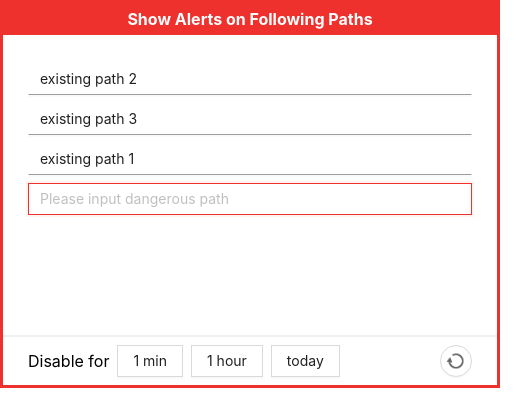
Modify Path List › should sort existing path in alphabetical order when click sort button
The image size is (517, 405).
Step 1. Type "test" into the field with placeholder "Please input dangerous path" → (250, 199), box [28,183,472,215]
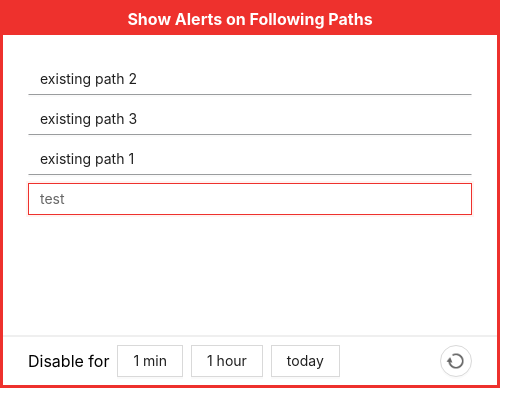
Step 2. Click the button "existing path 2" → (88, 78), box [28,63,472,95]
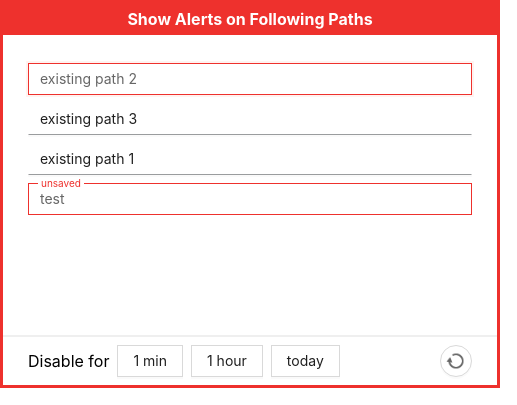
Step 3. Replace the text in the 1st field with "existing path 4" → (250, 79), box [28,63,472,95]
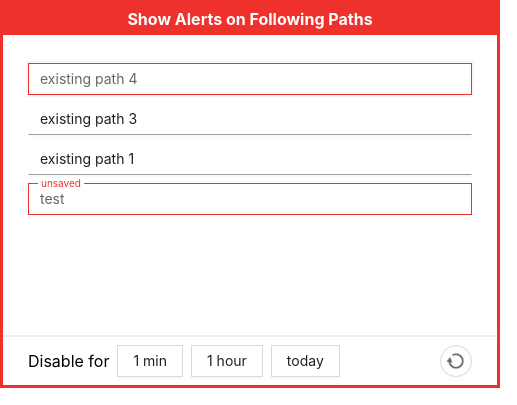
Step 4. Click the button with class "ReloadIcon" → (456, 361), box [440,345,472,377]
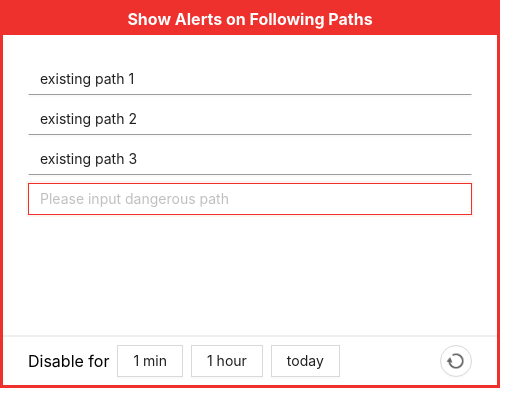
Expected: the button "existing path 1" is shown, [28,63,472,95]
Expected: the button "existing path 3" is shown, [28,143,472,175]
Expected: the button "existing path 2" is shown, [28,103,472,135]
